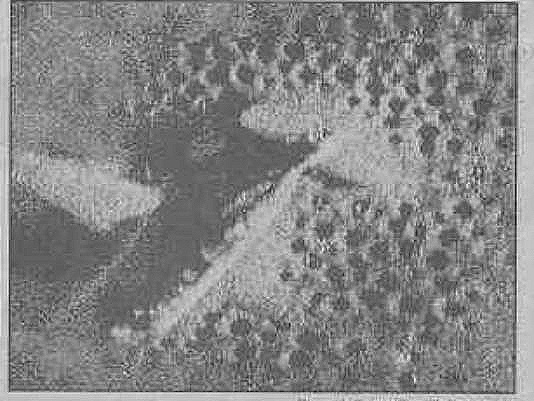plane: (25, 106, 389, 348)
